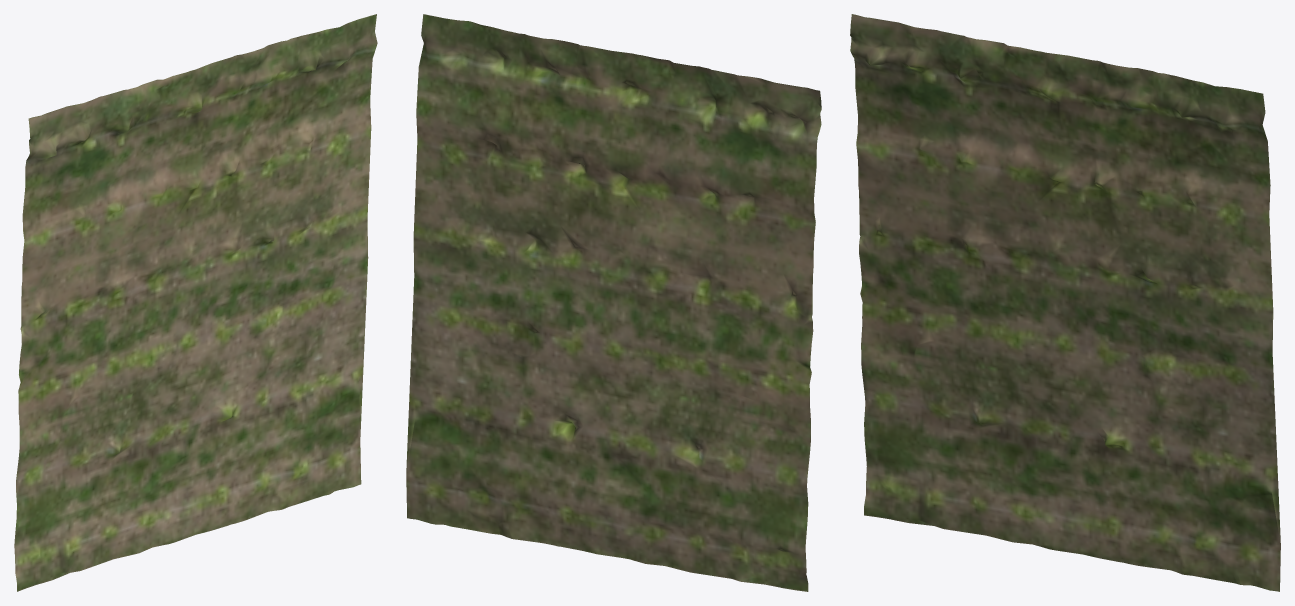
The model's file is map_170_100.obj.
3 views of the same model, side by side, from view 1: azimuth 30°, elevation 25°; view 2: azimuth 150°, elevation 25°; view 3: azimuth 330°, elevation 25° (orthographic). The views are drawn at different scales.
Size of the model in its own units: 8 by 10 by 1.58.
Materials: 1 (1 with a texture image).
